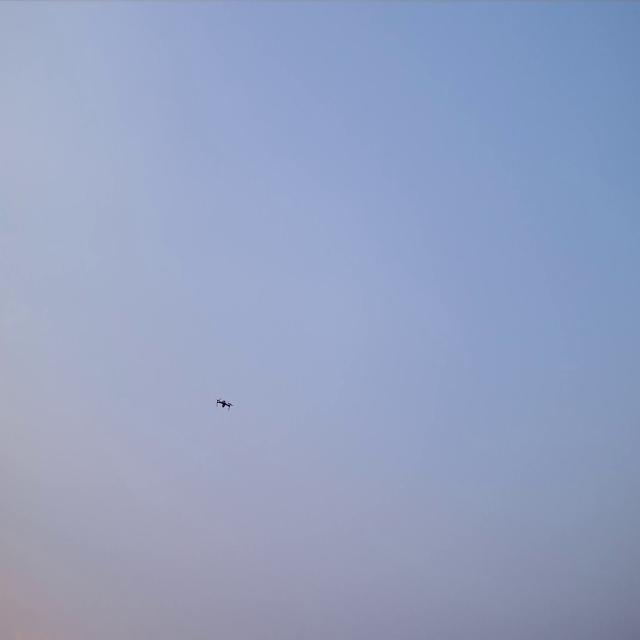UAV: (216, 394, 233, 412)
